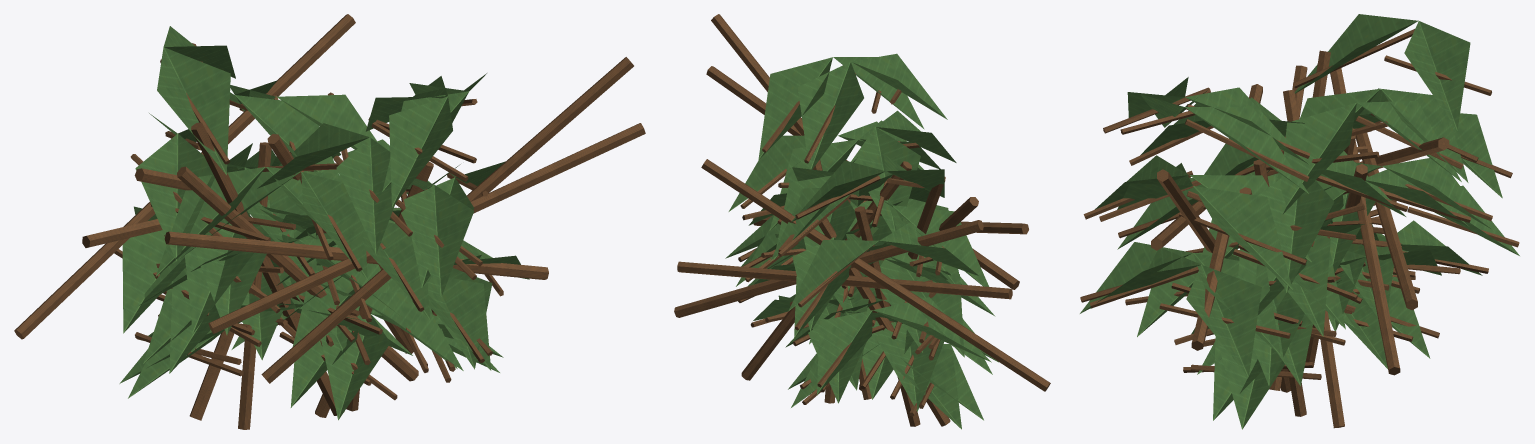
Rendered from en-009_broadleaf_bush_set__dense.obj.
The picture shows the model from 3 angles, left to right: view 1: azimuth 30°, elevation 25°; view 2: azimuth 150°, elevation 25°; view 3: azimuth 270°, elevation 25°; orthographic projection. The views are drawn at different scales.
Visible parts, largest first — view 1: en-009_broadleaf_bush_set__dense; view 2: en-009_broadleaf_bush_set__dense; view 3: en-009_broadleaf_bush_set__dense.
Boxes of the visible parts, box(x1,y1,x2,y2) form: en-009_broadleaf_bush_set__dense: box(14, 14, 645, 429); en-009_broadleaf_bush_set__dense: box(674, 14, 1050, 429); en-009_broadleaf_bush_set__dense: box(1080, 14, 1519, 429).
Size of the model in its own units: 1.29 by 0.848 by 0.9953.
Materials: 2 (2 with a texture image).
